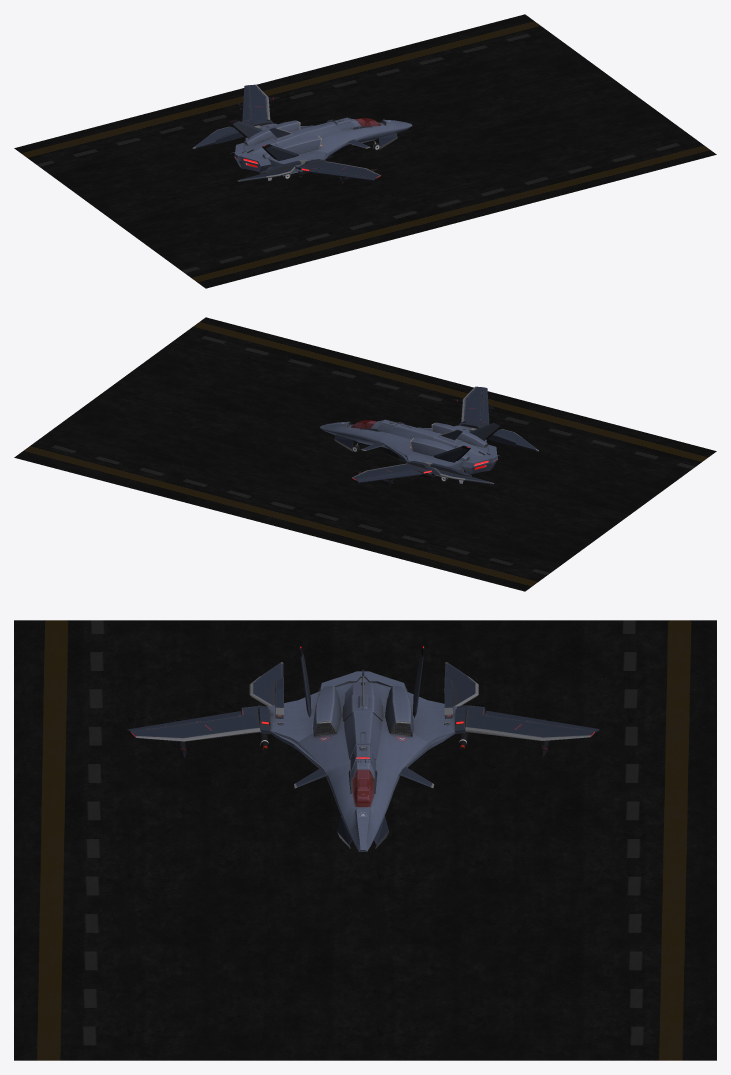
The model's file is ship_ares.gltf.
3 renders of one model, top to bottom at view 1: azimuth 30°, elevation 25°; view 2: azimuth 150°, elevation 25°; view 3: azimuth 270°, elevation 25°, orthographic. The views are drawn at different scales.
Parts seen in each view (by area): view 1: Plane003, di2, di1; view 2: Plane003, di2, di1; view 3: Plane003, di2, di1, object 1.
Boxes of the visible parts, box(x1,y1,x2,y2) form: Plane003: box(14, 14, 716, 288); di2: box(234, 117, 412, 178); di1: box(192, 84, 397, 183); Plane003: box(14, 317, 716, 591); di2: box(320, 419, 497, 481); di1: box(334, 386, 538, 486); Plane003: box(14, 620, 716, 1060); di2: box(267, 671, 457, 851); di1: box(127, 645, 599, 848); object 1: box(352, 769, 374, 807).
Size of the model in its own units: 6.8 by 0.673 by 4.42.
Materials: 4 (4 with a texture image).
